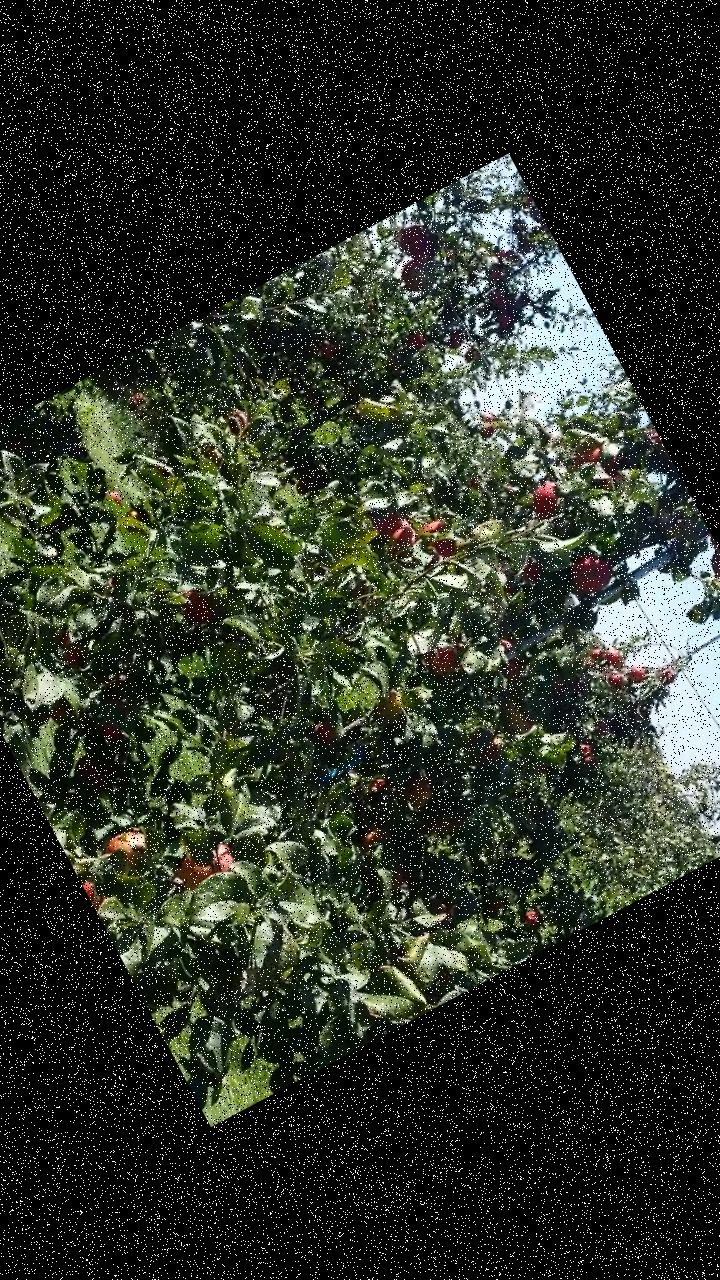Apple: (168, 837, 236, 894), (560, 548, 618, 602), (98, 820, 156, 874), (372, 508, 420, 558), (363, 681, 410, 727), (394, 222, 439, 266), (177, 584, 220, 630), (461, 724, 503, 770), (524, 478, 566, 522), (420, 518, 460, 562), (494, 694, 534, 738), (396, 256, 437, 298), (420, 641, 462, 681), (80, 873, 114, 915), (399, 775, 436, 811), (52, 630, 85, 669), (74, 751, 106, 790), (428, 806, 464, 840), (95, 712, 128, 746), (353, 821, 388, 852), (570, 442, 606, 472), (495, 657, 527, 690), (516, 554, 546, 586), (385, 862, 417, 892), (228, 406, 256, 439), (246, 736, 276, 764), (47, 698, 75, 726), (308, 718, 334, 747), (706, 550, 719, 591), (496, 635, 514, 653)
